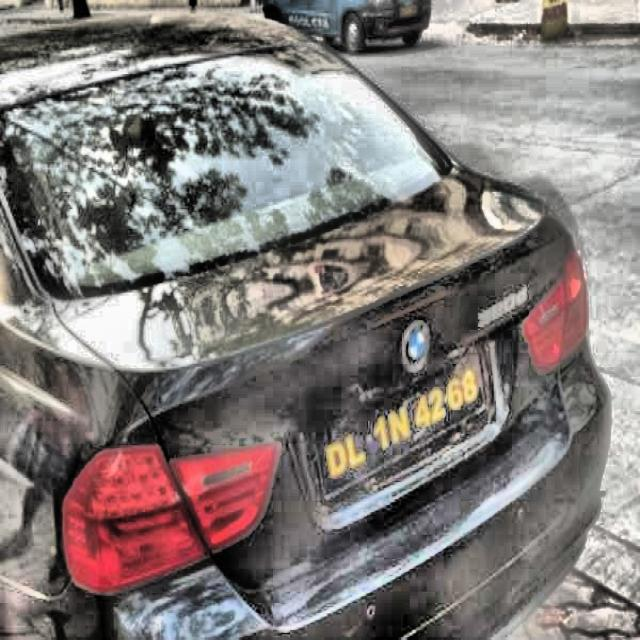license_plate: (322, 362, 482, 486)
